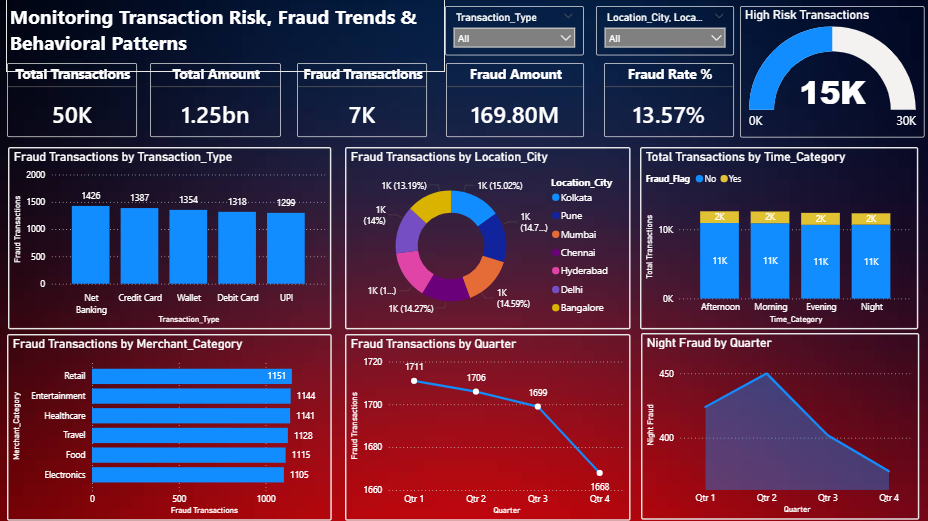

This screenshot's page, from the dashboard's own definition file:
{"tool":"powerbi","page":{"name":"Fraud Intelligence Dashboard","canvas":[1280,720],"ordinal":0},"visuals":[{"type":"cardVisual","title":"Total Transactions","fields":{"Data":["Fraud_Transactions.Total Transactions"]},"box":[11.7,88,179,102.4],"z":0},{"type":"cardVisual","title":"Total Amount","fields":{"Data":["Fraud_Transactions.Total Amount"]},"box":[208.2,88.2,180,102.4],"z":1000},{"type":"cardVisual","title":"Fraud Rate %","fields":{"Data":["Fraud_Transactions.Fraud Rate %"]},"box":[832.9,87.8,179.3,102.4],"z":2000},{"type":"cardVisual","title":"Fraud Transactions","fields":{"Data":["Fraud_Transactions.Fraud Transactions"]},"box":[409.8,87.8,179.3,102.4],"z":3000},{"type":"cardVisual","title":"Fraud Amount","fields":{"Data":["Fraud_Transactions.Fraud Amount"]},"box":[614.6,87.8,190.2,102.4],"z":4000},{"type":"slicer","fields":{"Values":["Fraud_Transactions.Transaction_Type"]},"box":[614.1,9.4,190.6,68.2],"z":5000},{"type":"slicer","fields":{"Values":["Fraud_Transactions.Location_City","Fraud_Transactions.Location_City"]},"box":[822.3,9.6,190.4,68.1],"z":6000},{"type":"clusteredColumnChart","fields":{"Category":["Fraud_Transactions.Transaction_Type"],"Y":["Fraud_Transactions.Fraud Transactions"]},"box":[12.2,203.7,445.1,251.2],"z":7000},{"type":"donutChart","fields":{"Y":["Fraud_Transactions.Fraud Transactions"],"Category":["Fraud_Transactions.Location_City"]},"box":[476.8,203.7,392.7,251.2],"z":8000},{"type":"columnChart","title":"Total Transactions by Time_Category ","fields":{"Category":["Fraud_Transactions.Time_Category"],"Y":["Fraud_Transactions.Total Transactions"],"Series":["Fraud_Transactions.Fraud_Flag"]},"box":[882.7,203.7,382.7,250.6],"z":9000},{"type":"barChart","fields":{"Category":["Fraud_Transactions.Merchant_Category"],"Y":["Fraud_Transactions.Fraud Transactions"]},"box":[11.1,460.5,446.9,256.8],"z":10000},{"type":"gauge","fields":{"Y":["Fraud_Transactions.High Risk Transactions"]},"box":[1020.5,9.6,254.2,180.7],"z":11000},{"type":"lineChart","fields":{"Y":["Fraud_Transactions.Fraud Transactions"],"Category":["Fraud_Transactions.Transaction_Date.Variation.Date Hierarchy.Quarter"]},"box":[476.5,460.5,392.6,256.8],"z":12000},{"type":"areaChart","fields":{"Category":["Fraud_Transactions.Transaction_Date.Variation.Date Hierarchy.Quarter"],"Y":["Fraud_Transactions.Night Fraud"]},"box":[883,460,383,257],"z":13000},{"type":"textbox","box":[10,0,604.4,101.1],"z":14000}]}

Visuals, with their boxes in screenshot pixels (x1, y1, x2, y2), scaled from the page's 1280x720 canvas onto the 928x521 screenshot:
"Total Transactions" cardVisual: Rect(8, 64, 138, 138)
"Total Amount" cardVisual: Rect(151, 64, 281, 138)
"Fraud Rate %" cardVisual: Rect(604, 64, 734, 138)
"Fraud Transactions" cardVisual: Rect(297, 64, 427, 138)
"Fraud Amount" cardVisual: Rect(446, 64, 583, 138)
slicer - Fraud_Transactions.Transaction_Type: Rect(445, 7, 583, 56)
slicer - Fraud_Transactions.Location_City x Fraud_Transactions.Location_City: Rect(596, 7, 734, 56)
clusteredColumnChart - Fraud_Transactions.Transaction_Type x Fraud_Transactions.Fraud Transactions: Rect(9, 147, 332, 329)
donutChart - Fraud_Transactions.Fraud Transactions x Fraud_Transactions.Location_City: Rect(346, 147, 630, 329)
"Total Transactions by Time_Category " columnChart: Rect(640, 147, 917, 329)
barChart - Fraud_Transactions.Merchant_Category x Fraud_Transactions.Fraud Transactions: Rect(8, 333, 332, 519)
gauge - Fraud_Transactions.High Risk Transactions: Rect(740, 7, 924, 138)
lineChart - Fraud_Transactions.Fraud Transactions x Fraud_Transactions.Transaction_Date.Variation.Date Hierarchy.Quarter: Rect(345, 333, 630, 519)
areaChart - Fraud_Transactions.Transaction_Date.Variation.Date Hierarchy.Quarter x Fraud_Transactions.Night Fraud: Rect(640, 333, 918, 519)
textbox: Rect(7, 0, 445, 73)
